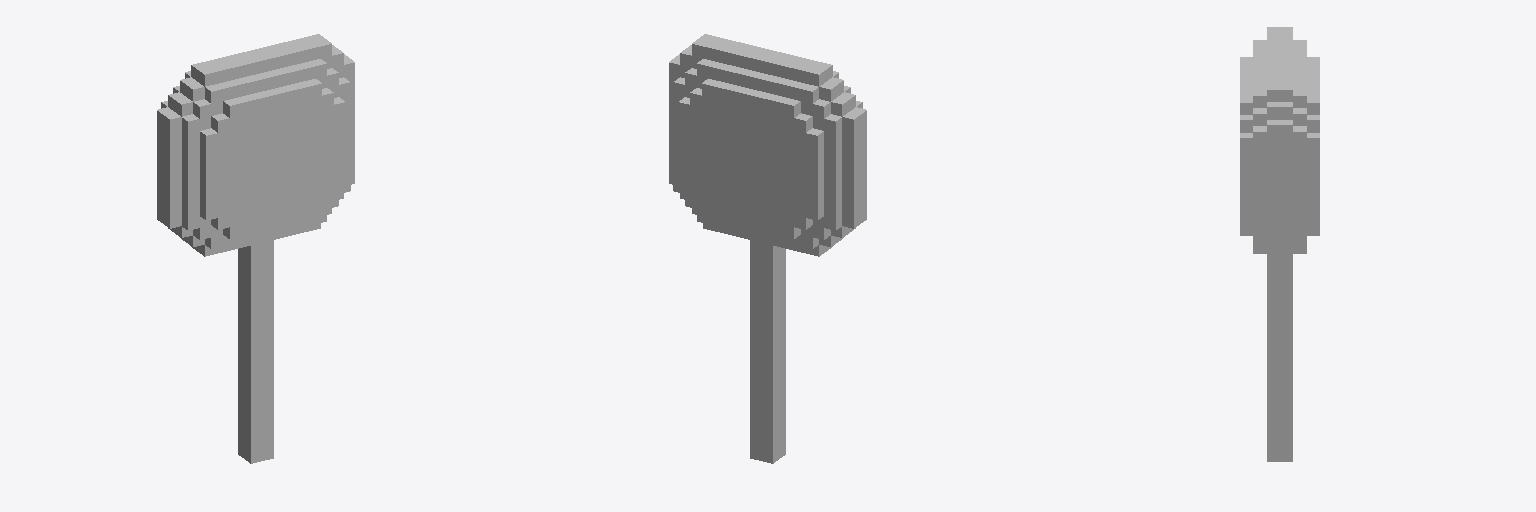
Rendered from candy.obj.
3 views of the same model, side by side, from view 1: azimuth 30°, elevation 25°; view 2: azimuth 150°, elevation 25°; view 3: azimuth 270°, elevation 25° (orthographic).
Visible parts, largest first — view 1: object 1; view 2: object 1; view 3: object 1.
Part boxes in pixels (bbox=[...]): object 1: bbox=[157, 34, 354, 463]; object 1: bbox=[669, 34, 866, 463]; object 1: bbox=[1240, 27, 1319, 461].
Size of the model in its own units: 1.6 by 3.3 by 0.6.